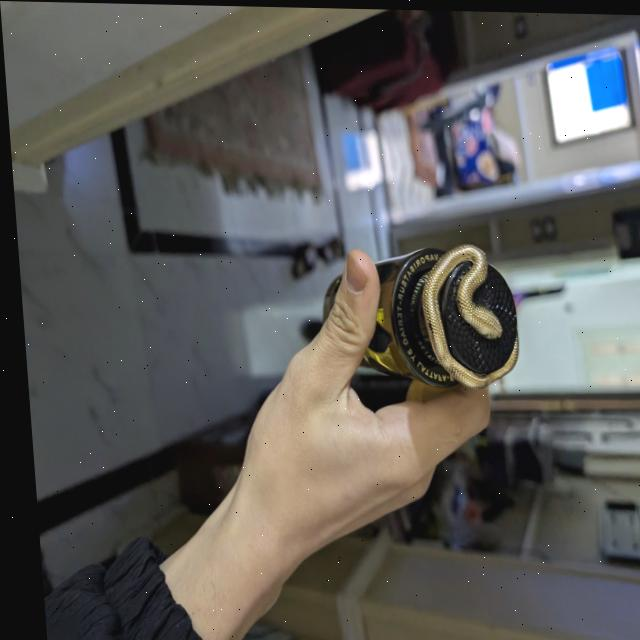Teriaq-Intense: (310, 236, 519, 391), (410, 238, 519, 390)
